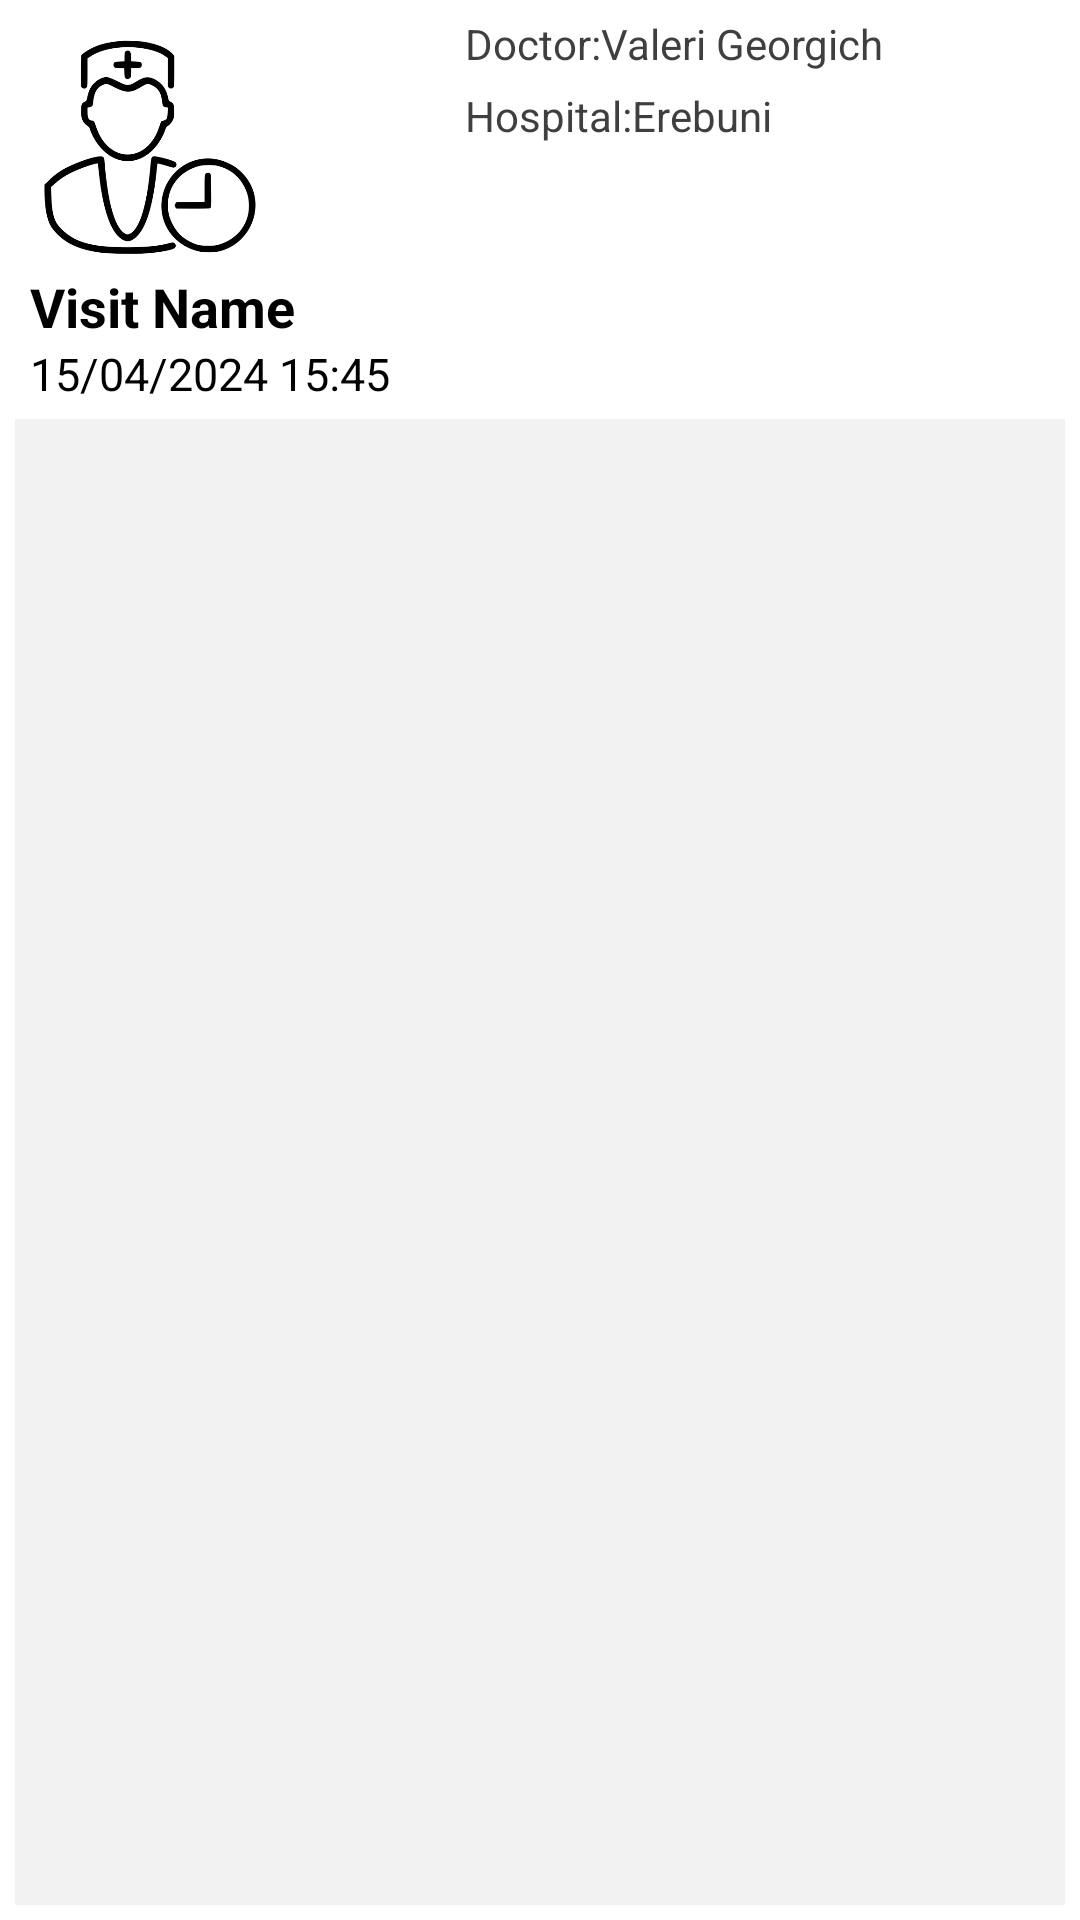

Icon bounding boxes for this 1080 x 1920 phone screenshot, format [x1, y1, x2, y2]:
doctor list: [44, 40, 256, 254]
